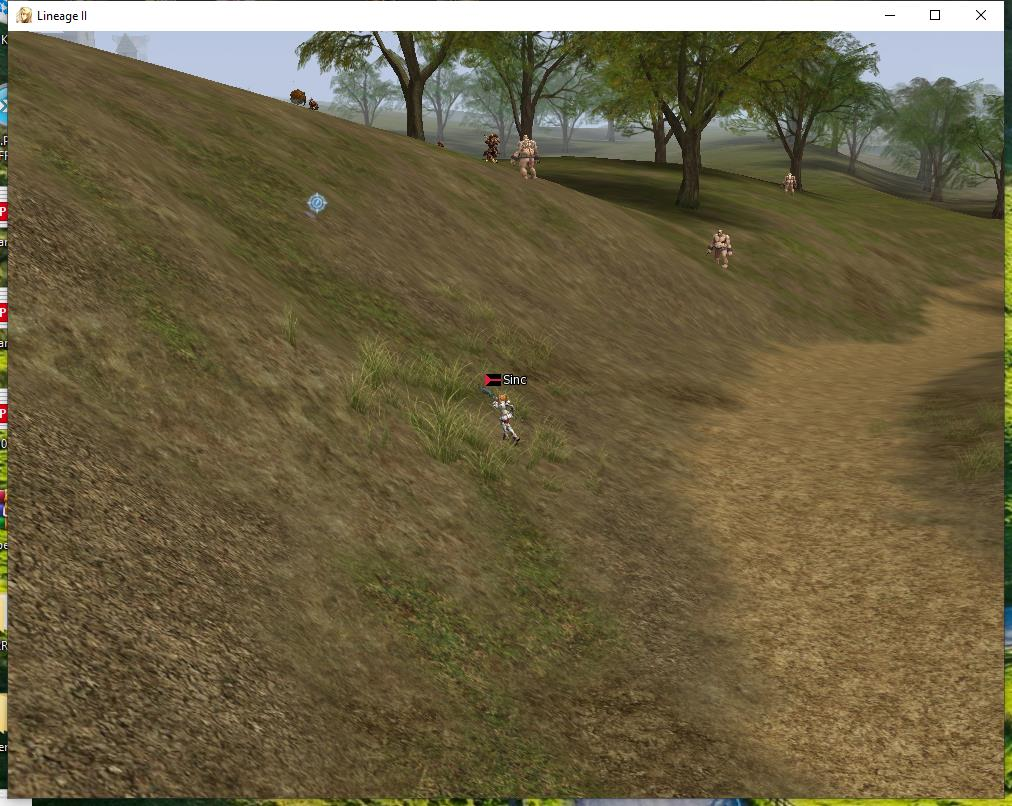monster: (511, 129, 542, 188), (705, 220, 739, 269), (482, 131, 503, 166), (287, 82, 308, 109), (782, 168, 797, 196)
